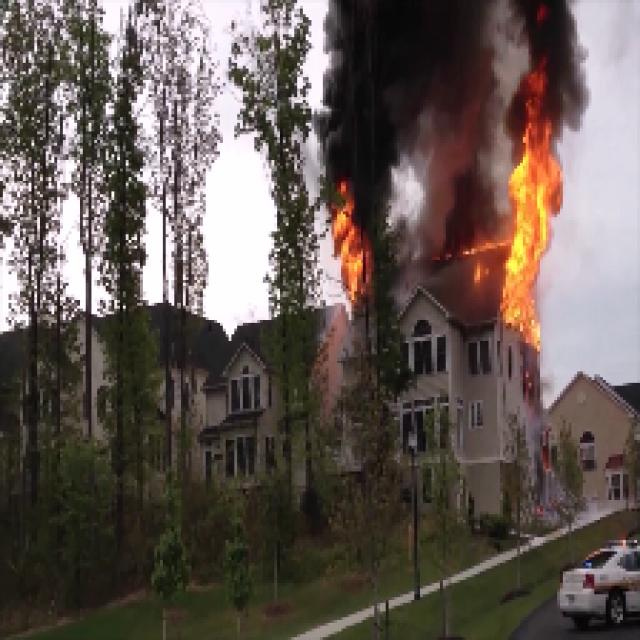fire: (513, 130, 548, 326)
smoke: (357, 17, 493, 232), (516, 3, 580, 108)
